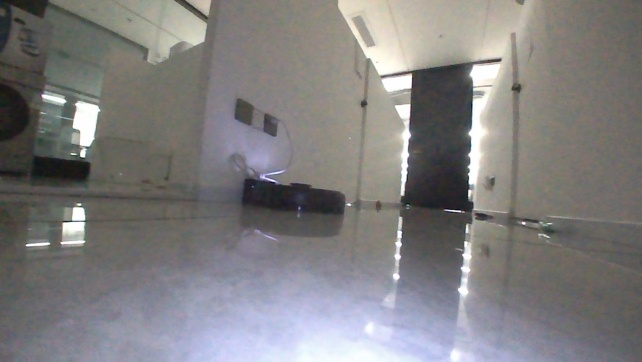door_anno: (507, 0, 550, 225)
toilet: (91, 133, 147, 185)
wire: (227, 116, 295, 184)
